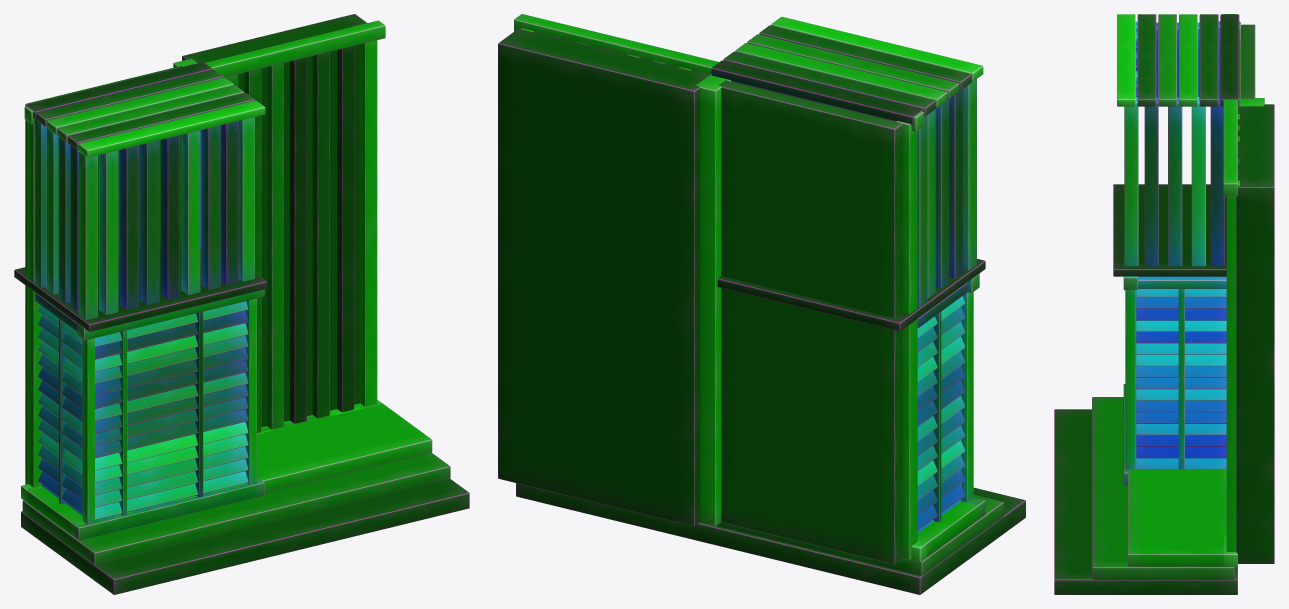
Rendered from door_400x350_02.fbx.
3 views of the same model, side by side, from view 1: azimuth 30°, elevation 25°; view 2: azimuth 150°, elevation 25°; view 3: azimuth 270°, elevation 25° (orthographic). The views are drawn at different scales.
Visible parts, largest first — view 1: door_400x350_02; view 2: door_400x350_02; view 3: door_400x350_02.
Part boxes in pixels (<box>): door_400x350_02: <box>14,14,469,594</box>; door_400x350_02: <box>498,14,1025,594</box>; door_400x350_02: <box>1054,14,1274,594</box>.
Bounding box in the file's own units: 2.13 × 2.39 × 1.16.
